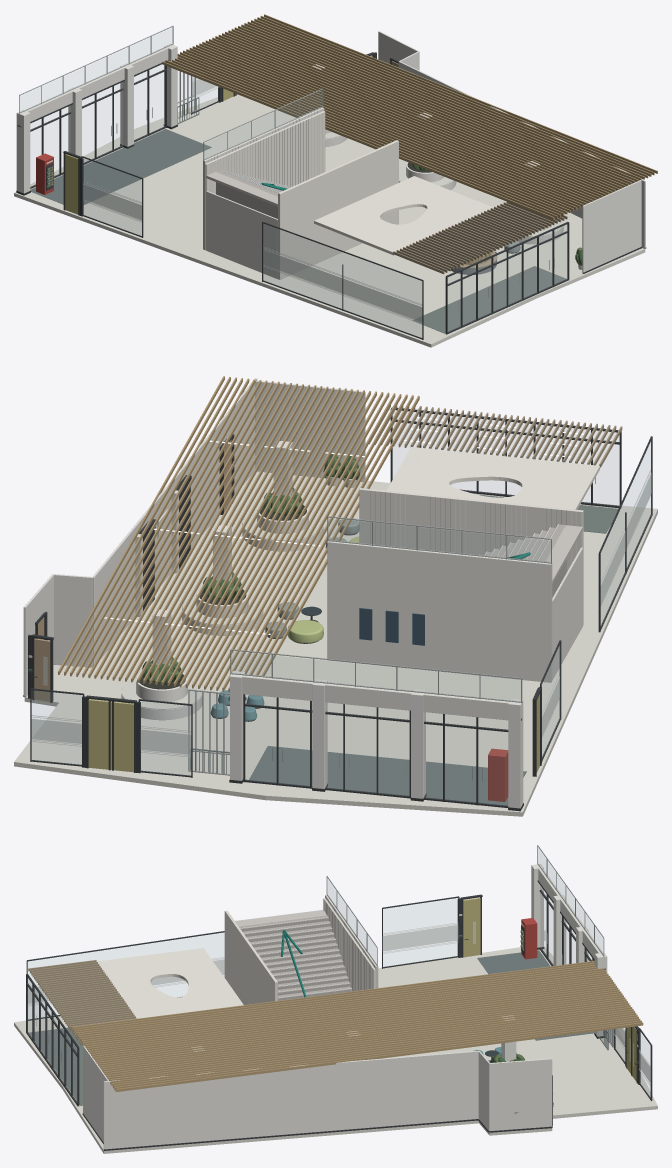
File: viewer-lobby-seating.glb
The picture shows the model from 3 angles, top to bottom: view 1: azimuth 30°, elevation 25°; view 2: azimuth 150°, elevation 25°; view 3: azimuth 270°, elevation 25°; orthographic projection. The views are drawn at different scales.
Visible parts, largest first — view 1: lobby-seating-ceiling-002, lobby-seating-ground-019, lobby-seating-furniture-015, lobby-seating-architecture-009, lobby-seating-architecture-007, lobby-seating-architecture-010, lobby-seating-ceiling-036, lobby-seating-architecture-001, lobby-seating-ceiling-057, lobby-seating-ground-041, lobby-seating-architecture-047, lobby-seating-architecture-017 (+11 smaller); view 2: lobby-seating-ground-019, lobby-seating-ceiling-002, lobby-seating-architecture-012, lobby-seating-architecture-007, lobby-seating-architecture-010, lobby-seating-architecture-001, lobby-seating-architecture-009, lobby-seating-architecture-017, lobby-seating-furniture-015, lobby-seating-ceiling-036, lobby-seating-ground-041, lobby-seating-ceiling-057 (+19 smaller); view 3: lobby-seating-ceiling-002, lobby-seating-architecture-010, lobby-seating-ground-019, lobby-seating-ceiling-036, lobby-seating-furniture-046, lobby-seating-architecture-009, lobby-seating-architecture-001, lobby-seating-furniture-015, lobby-seating-ceiling-057, lobby-seating-architecture-007, lobby-seating-architecture-032, lobby-seating-architecture-017 (+10 smaller).
Part boxes in pixels (box(x1,y1,x2,y2)): lobby-seating-ceiling-002: box(162, 14, 657, 220); lobby-seating-ground-019: box(14, 94, 645, 347); lobby-seating-furniture-015: box(205, 111, 398, 279); lobby-seating-architecture-009: box(83, 77, 421, 337); lobby-seating-architecture-007: box(31, 65, 567, 331); lobby-seating-architecture-010: box(16, 31, 645, 273); lobby-seating-ceiling-036: box(314, 176, 493, 255); lobby-seating-architecture-001: box(16, 52, 646, 339); lobby-seating-ceiling-057: box(393, 202, 567, 274); lobby-seating-ground-041: box(30, 129, 211, 204); lobby-seating-architecture-047: box(206, 191, 277, 279); lobby-seating-architecture-017: box(20, 28, 321, 158); lobby-seating-ground-019: box(14, 471, 657, 816); lobby-seating-ceiling-002: box(58, 376, 419, 692); lobby-seating-architecture-012: box(230, 541, 550, 721); lobby-seating-architecture-007: box(190, 410, 618, 805); lobby-seating-architecture-010: box(23, 378, 523, 808); lobby-seating-architecture-001: box(23, 407, 652, 811); lobby-seating-architecture-009: box(32, 440, 651, 775); lobby-seating-architecture-017: box(231, 519, 550, 700); lobby-seating-furniture-015: box(359, 488, 583, 625); lobby-seating-ceiling-036: box(386, 447, 599, 509); lobby-seating-ground-041: box(249, 746, 526, 805); lobby-seating-ceiling-057: box(369, 405, 622, 467); lobby-seating-ceiling-002: box(71, 961, 643, 1092); lobby-seating-architecture-010: box(83, 864, 638, 1149); lobby-seating-ground-019: box(14, 946, 657, 1153); lobby-seating-ceiling-036: box(96, 948, 243, 1018); lobby-seating-furniture-046: box(239, 915, 352, 1000); lobby-seating-architecture-009: box(28, 898, 649, 1096); lobby-seating-architecture-001: box(26, 880, 652, 1150); lobby-seating-furniture-015: box(224, 898, 375, 1004); lobby-seating-ceiling-057: box(28, 960, 136, 1045); lobby-seating-architecture-007: box(27, 887, 610, 1101); lobby-seating-architecture-032: box(28, 924, 650, 1083); lobby-seating-architecture-017: box(327, 848, 602, 963).
Size of the model in its own units: 24.51 by 6 by 30.9.
